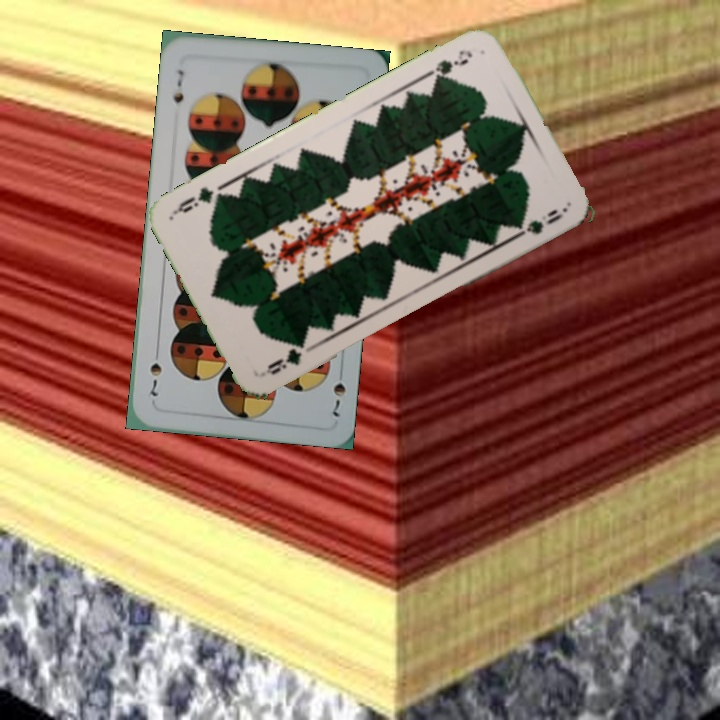G9: (424, 45, 476, 85), (262, 337, 308, 378)
S7: (329, 379, 348, 420), (169, 66, 187, 106)
